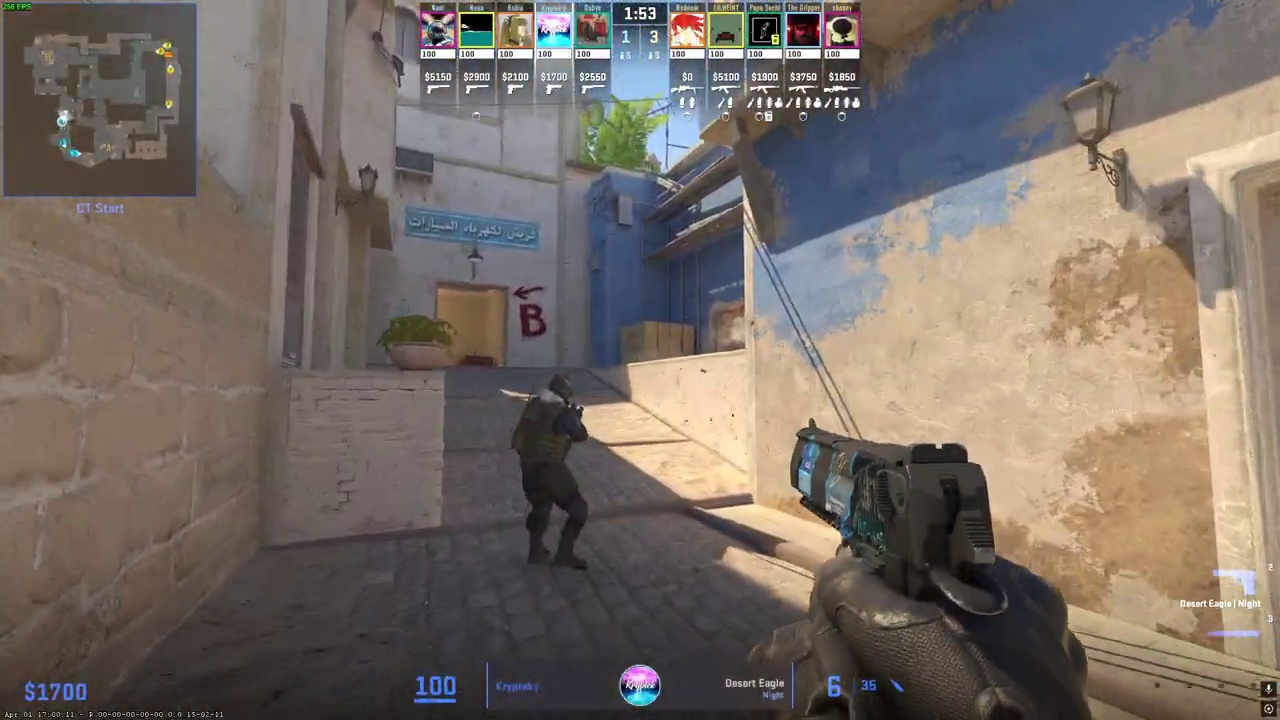CT: (515, 374, 589, 571)
